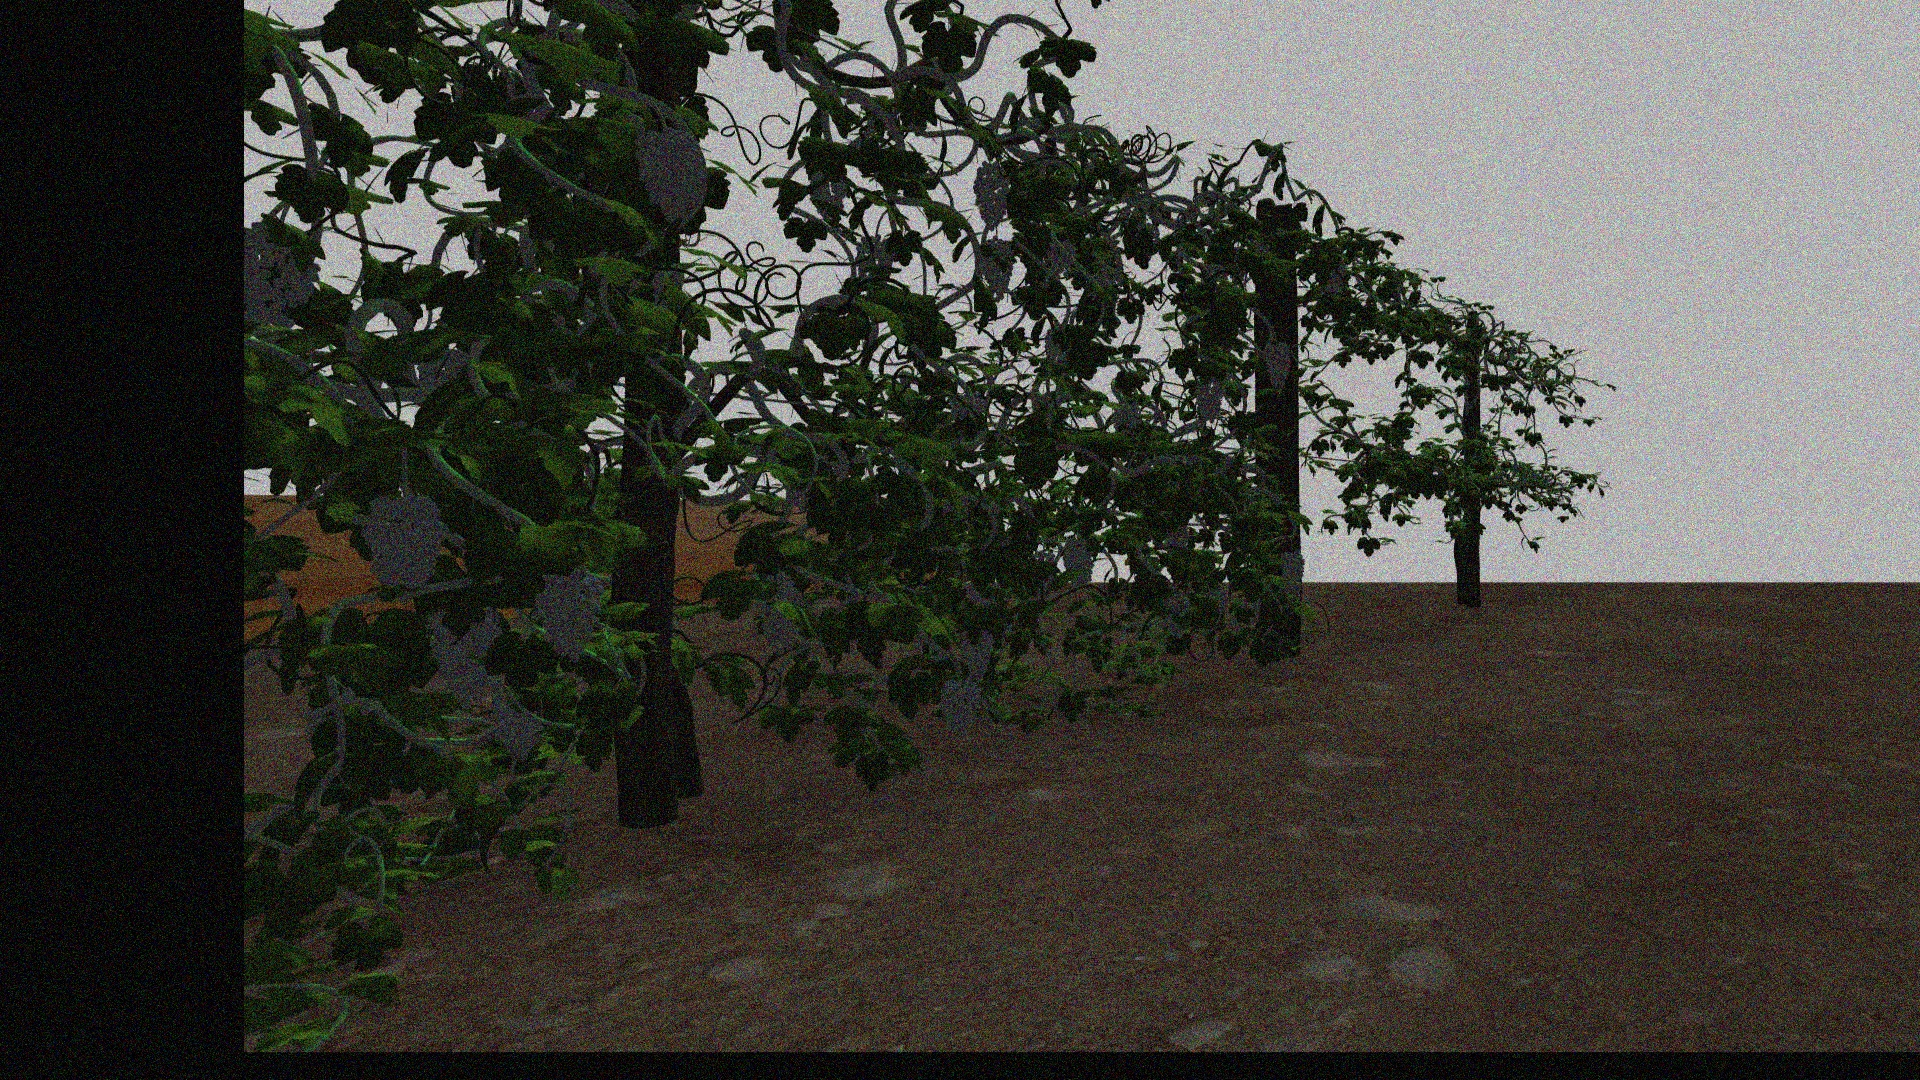grape: (363, 488, 451, 593), (253, 212, 320, 338), (634, 124, 711, 229), (426, 607, 497, 707), (531, 568, 605, 665), (757, 572, 802, 654), (491, 705, 545, 762), (972, 161, 1011, 233), (939, 680, 982, 740), (978, 237, 1015, 305), (1062, 537, 1098, 591), (960, 629, 994, 680), (1193, 375, 1226, 425), (1265, 342, 1292, 392), (1162, 596, 1193, 640), (1279, 551, 1307, 596), (1043, 240, 1077, 274), (1323, 262, 1349, 297)
